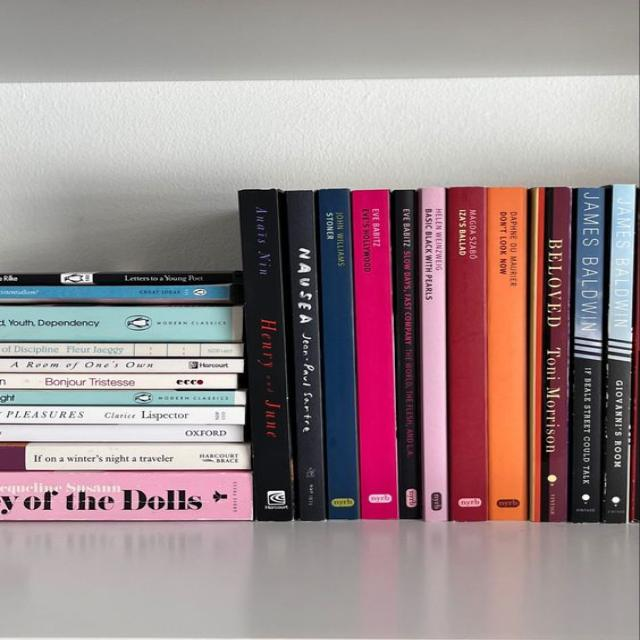book: (239, 190, 294, 521), (315, 189, 359, 518), (352, 189, 396, 518), (529, 189, 571, 521), (284, 191, 326, 520), (448, 187, 488, 521), (488, 187, 527, 520), (0, 471, 252, 521), (569, 188, 603, 522), (601, 185, 633, 523), (391, 191, 418, 518), (419, 188, 445, 521), (0, 305, 239, 341), (2, 443, 250, 471), (0, 405, 244, 424), (0, 425, 243, 442), (0, 373, 237, 390), (0, 358, 243, 374), (0, 390, 244, 405), (0, 342, 242, 356), (0, 285, 228, 298), (1, 274, 233, 285)
